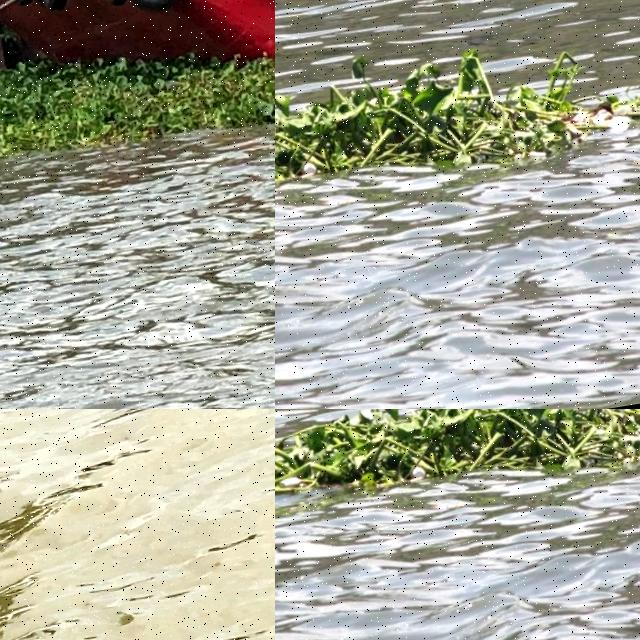water-hyacinth: (276, 31, 640, 226), (1, 7, 276, 203), (276, 410, 640, 530)
